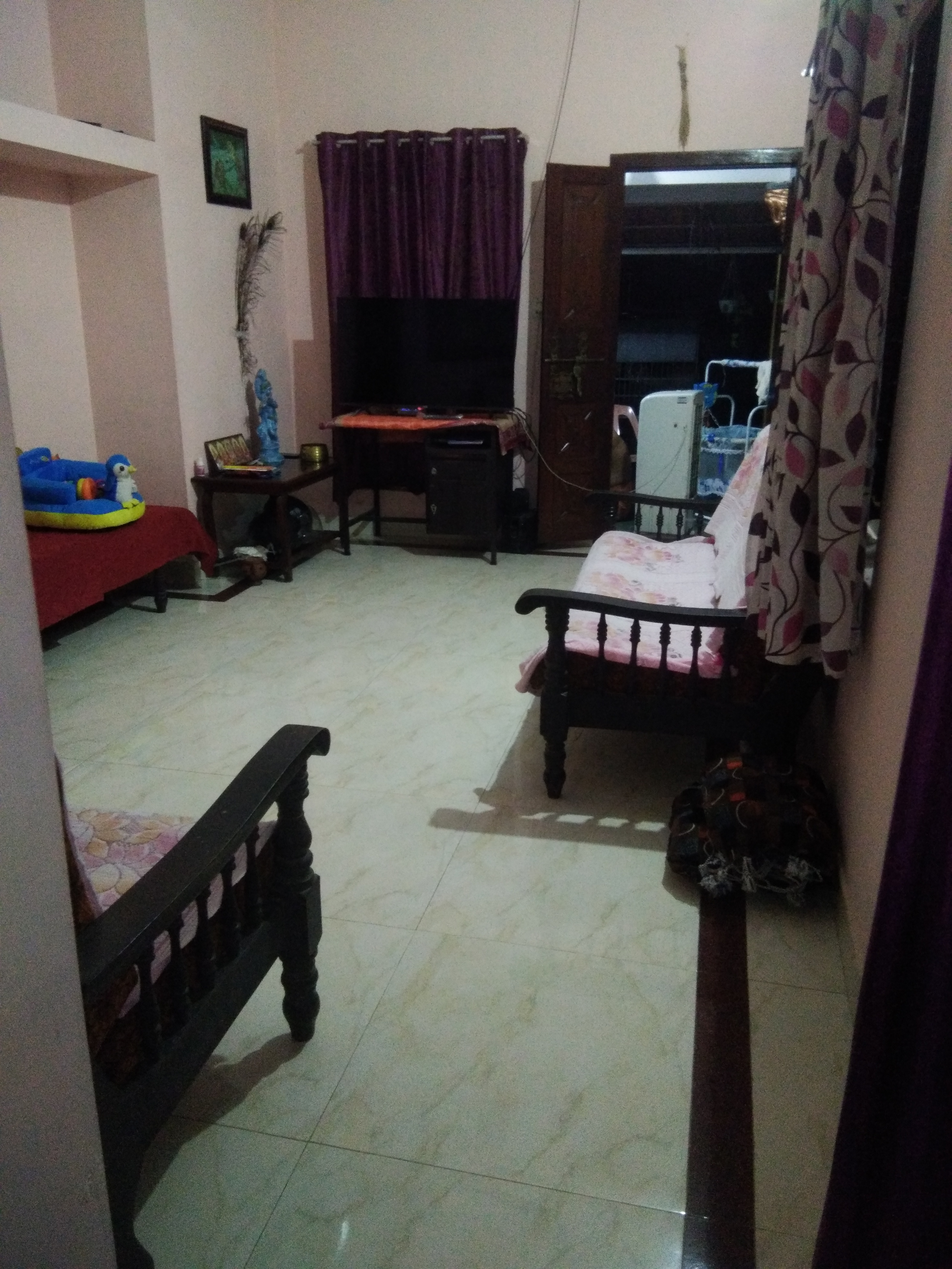bed: (25, 504, 218, 644)
sofa: (512, 409, 816, 796)
table: (190, 447, 349, 579)
